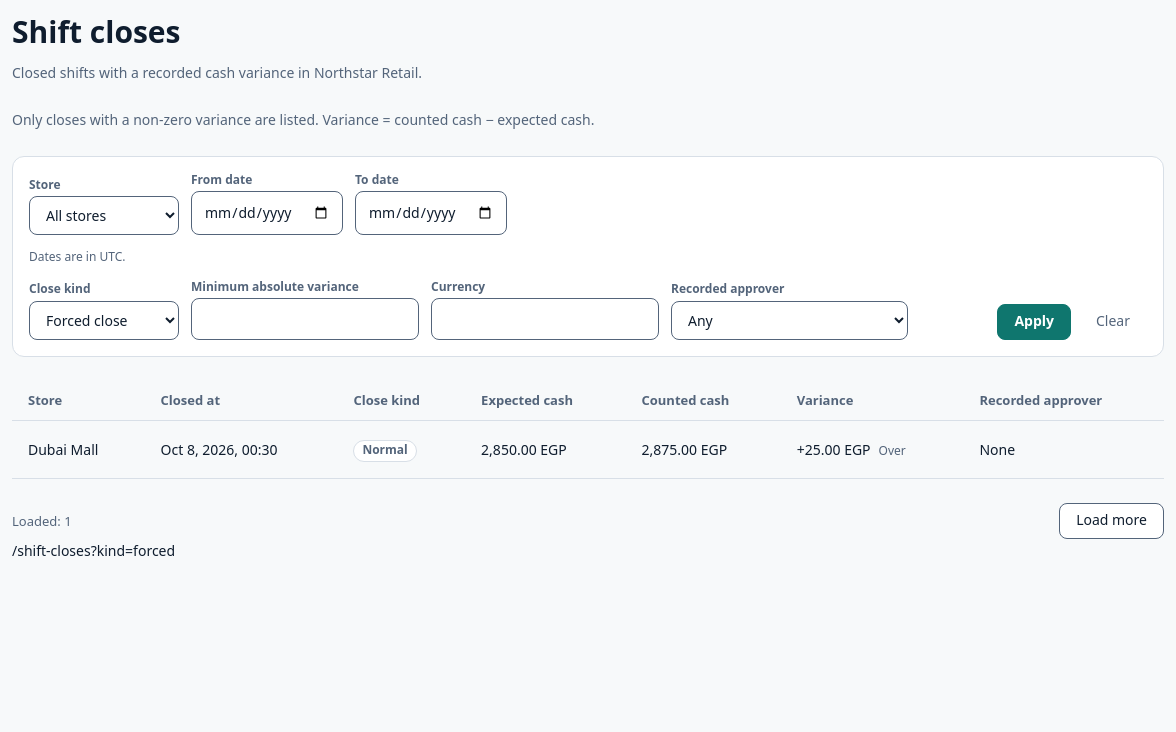
Test: ShiftCloseList (RT-18) › keyset paging: Load more sends the server's cursor with the same filters and appends
Click the button "Load more". click: (1112,521)
box: [1059, 503, 1164, 539]
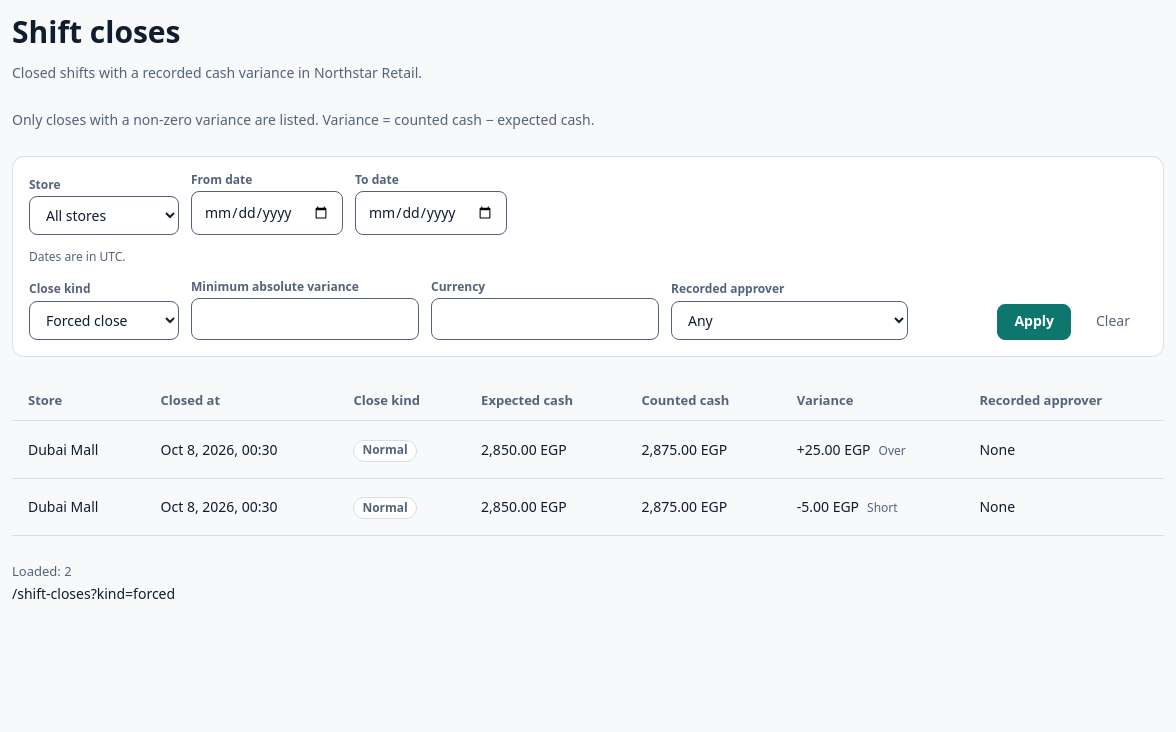
Expected: the number of rows is 3, [12, 381, 1164, 421]; [12, 422, 1164, 478]; [12, 478, 1164, 535]
Expected: the button "Load more" is gone
Expected: the text "Loaded: 2" is shown, [12, 560, 72, 582]
